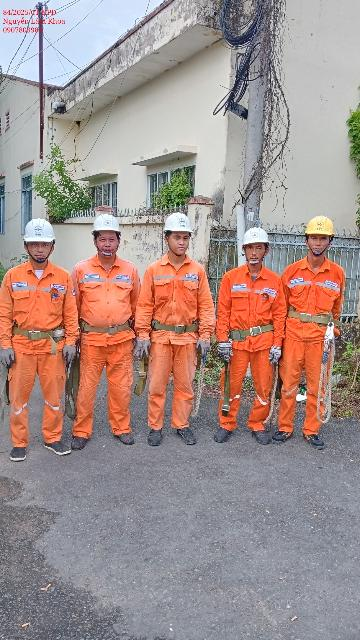gloves: (212, 336, 236, 369), (134, 335, 154, 361), (0, 344, 19, 369), (263, 342, 281, 365), (195, 338, 213, 358), (61, 343, 76, 364)
harness: (69, 316, 140, 343), (275, 304, 340, 333), (8, 321, 76, 346), (147, 313, 203, 338), (224, 321, 273, 348)
helmet: (15, 214, 64, 245), (81, 210, 127, 238), (157, 206, 198, 235), (304, 210, 336, 244), (234, 221, 273, 248)
shoes: (170, 422, 201, 449), (106, 428, 140, 452), (243, 420, 272, 448), (300, 423, 327, 452), (267, 421, 294, 447), (65, 430, 93, 454), (40, 437, 72, 456), (141, 427, 169, 447), (211, 424, 236, 446), (11, 443, 29, 466)
